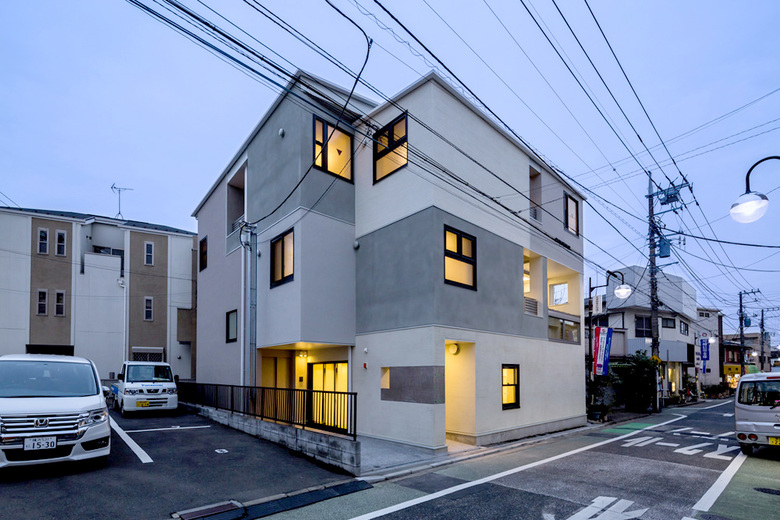Building House: (198, 82, 589, 463), (8, 196, 195, 442), (606, 258, 702, 404)
